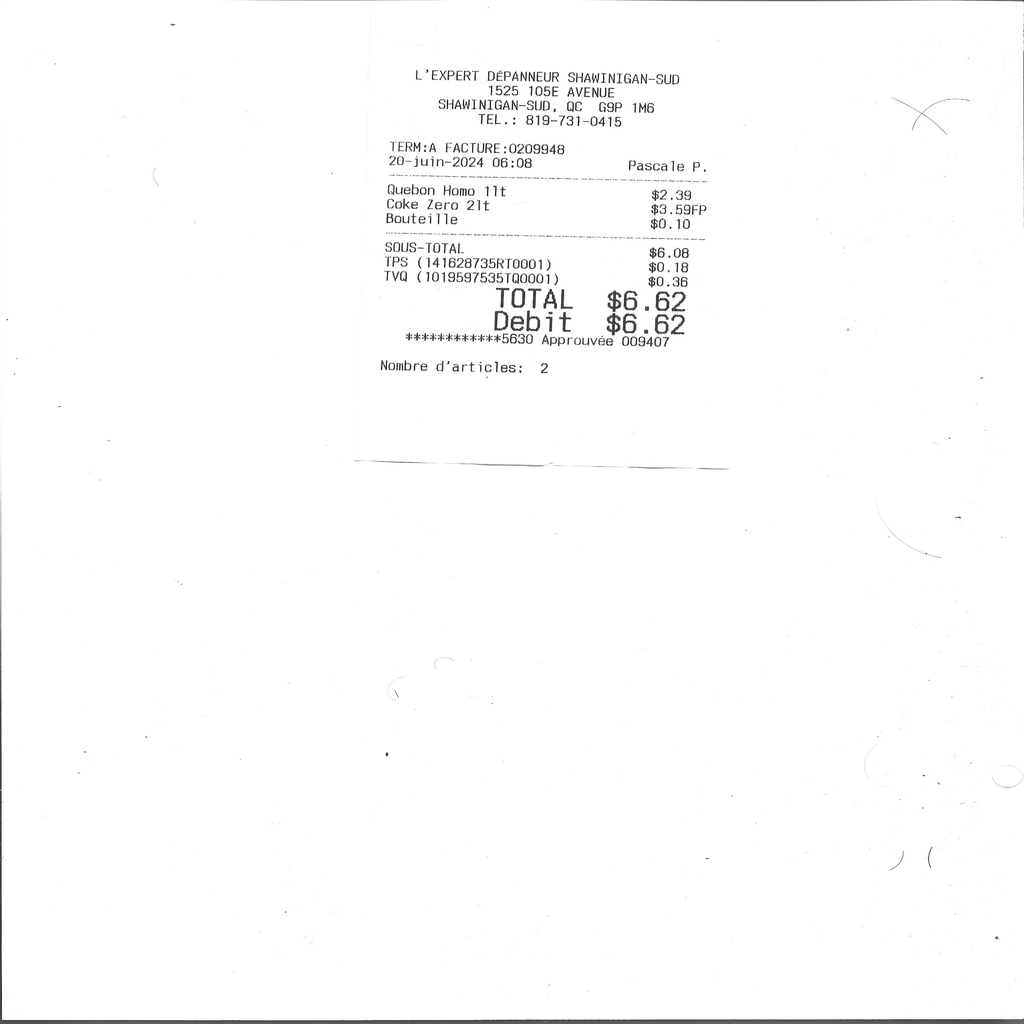recipt: (355, 29, 755, 451)
